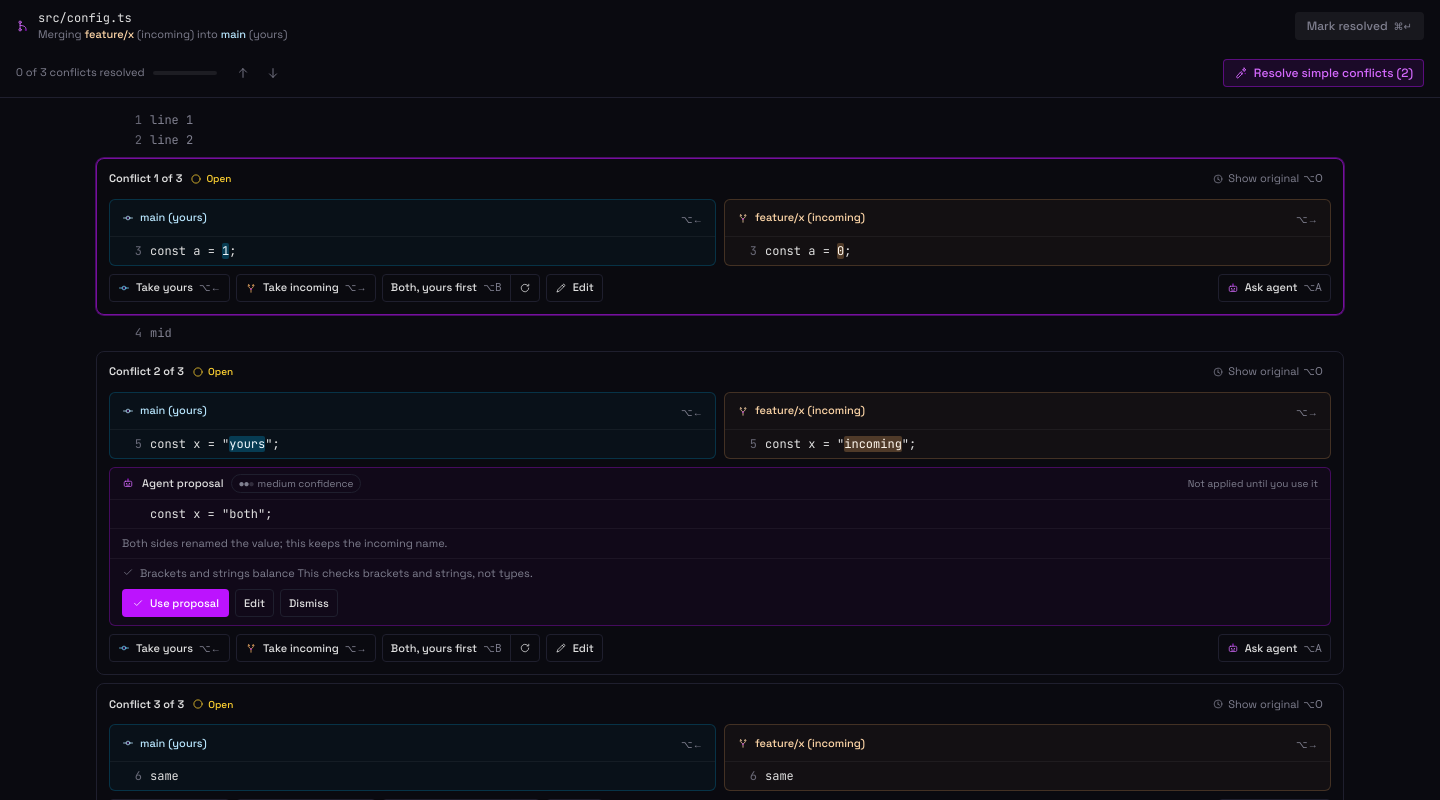
Test: MergeView › shows a proposal with its reasons and applies it only on Use proposal
This screenshot has width=1440, height=800.
Check: the text "Both sides renamed the value; this keeps the incoming name." is shown, box [110,528,1330,558]
Check: the element with test id "proposal-confidence" shows "medium confidence", box [232,474,360,492]
Click the button "Use proposal" at (176, 603), box [122,589,229,617]
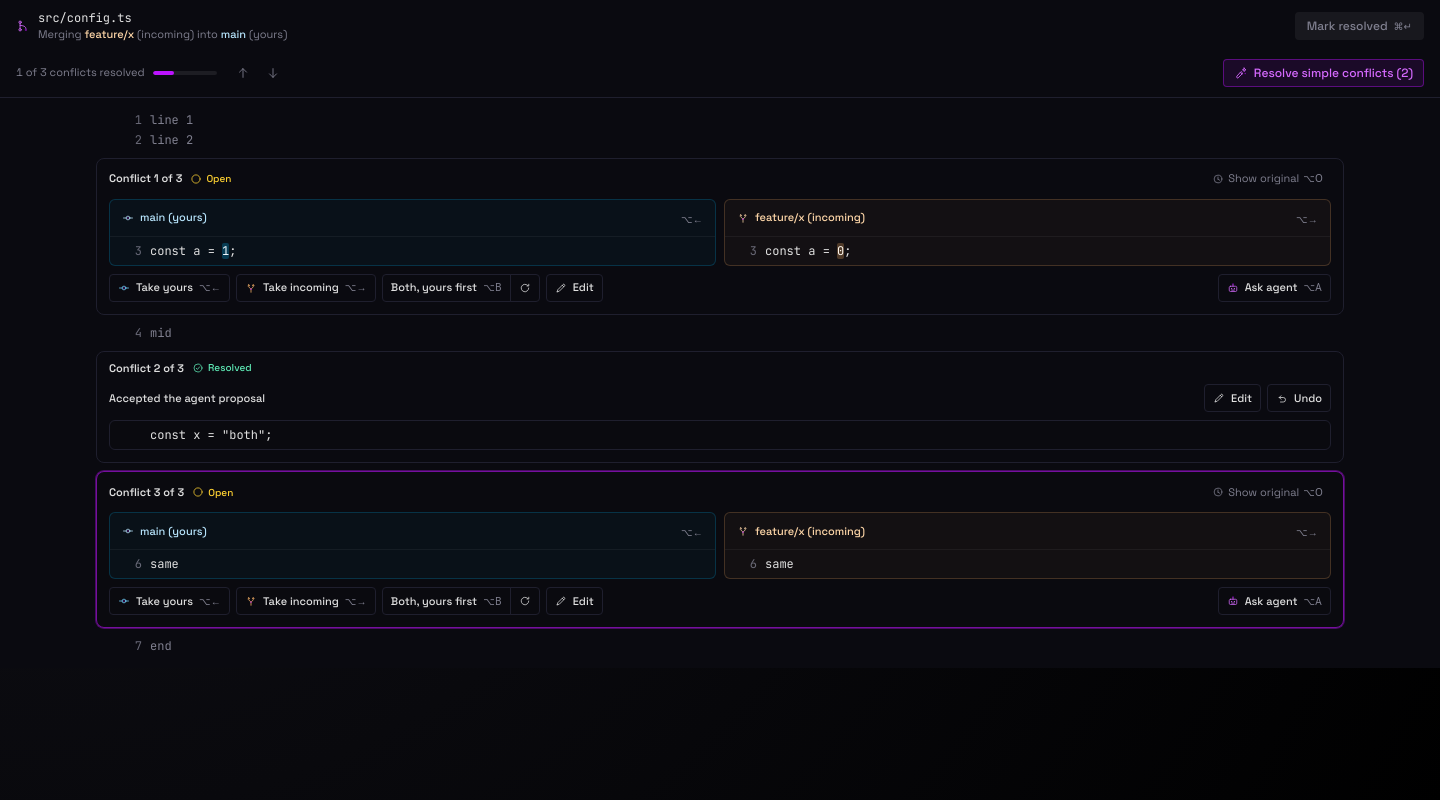
Check: the text with test id "resolution-summary" reads "Accepted the agent proposal", box [109,391,265,405]
